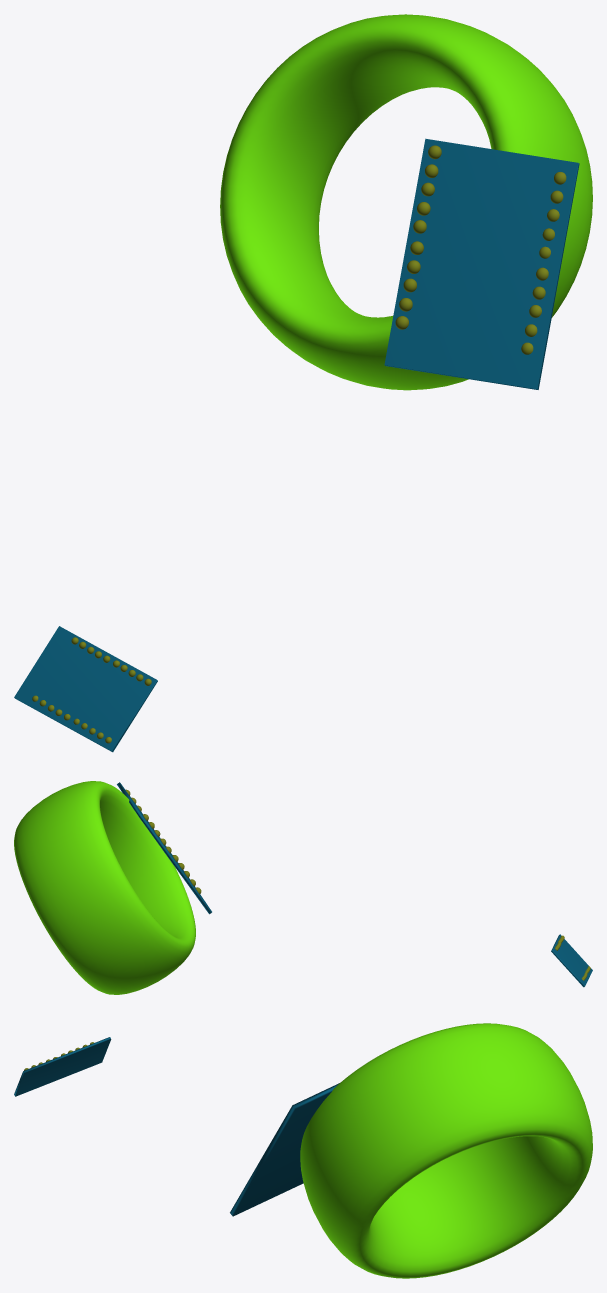
Rendered from Debris2_low.fbx.
3 renders of one model, top to bottom at view 1: azimuth 30°, elevation 25°; view 2: azimuth 150°, elevation 25°; view 3: azimuth 270°, elevation 25°, orthographic. The views are drawn at different scales.
Parts seen in each view (by area): view 1: Debris2_low; view 2: Debris2_low; view 3: Debris2_low.
Part boxes in pixels (left/top/right/bottom): Debris2_low: left=14, top=14, right=592, bottom=752; Debris2_low: left=14, top=781, right=592, bottom=994; Debris2_low: left=14, top=1023, right=592, bottom=1278.
Bounding box in the file's own units: 1.72 × 0.8108 × 1.45.
